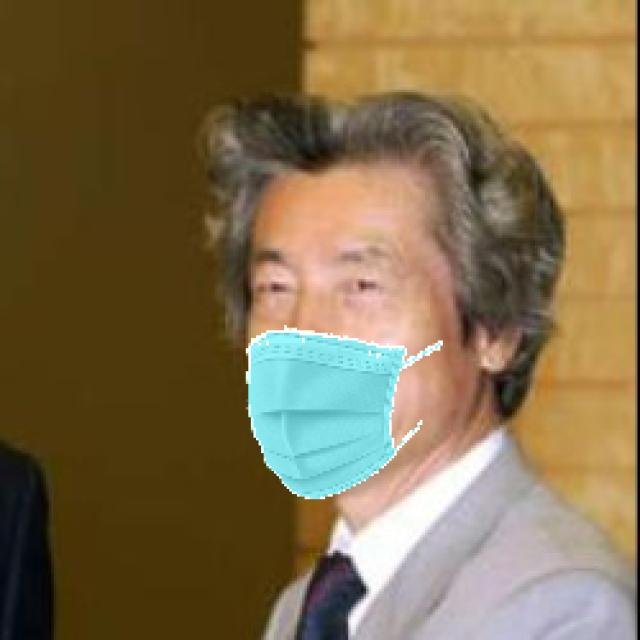mask: (218, 331, 462, 498)
